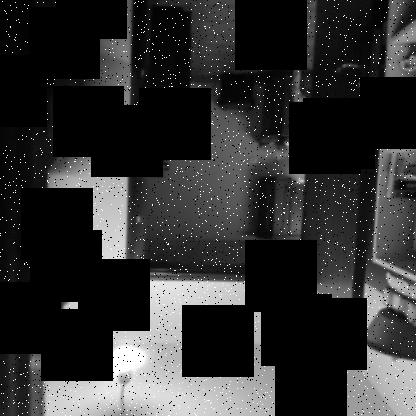Porte: (124, 0, 378, 326)
